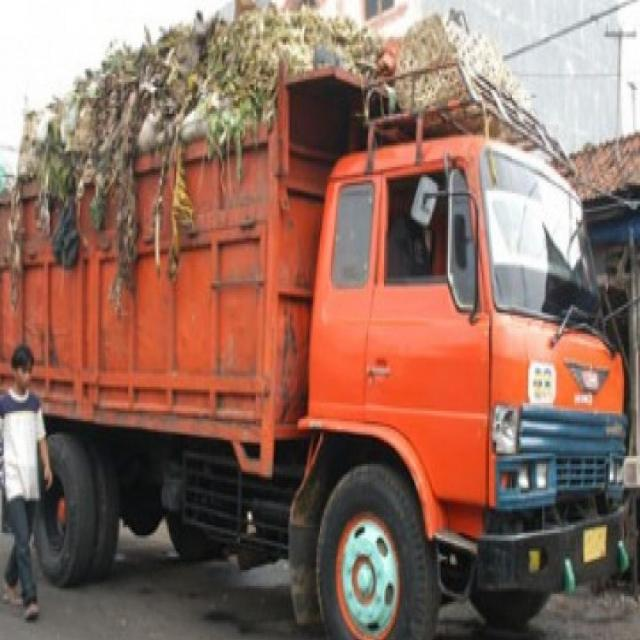Truck: (0, 60, 624, 633)
